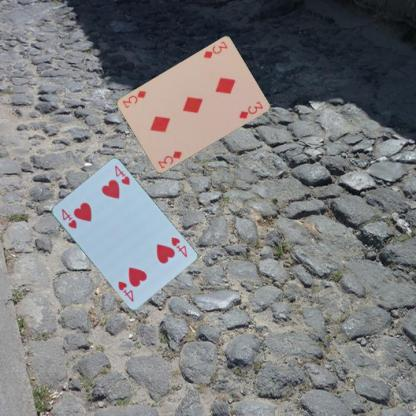3d: (156, 148, 183, 170), (201, 39, 228, 61)
4h: (168, 234, 188, 259), (58, 206, 78, 230)
